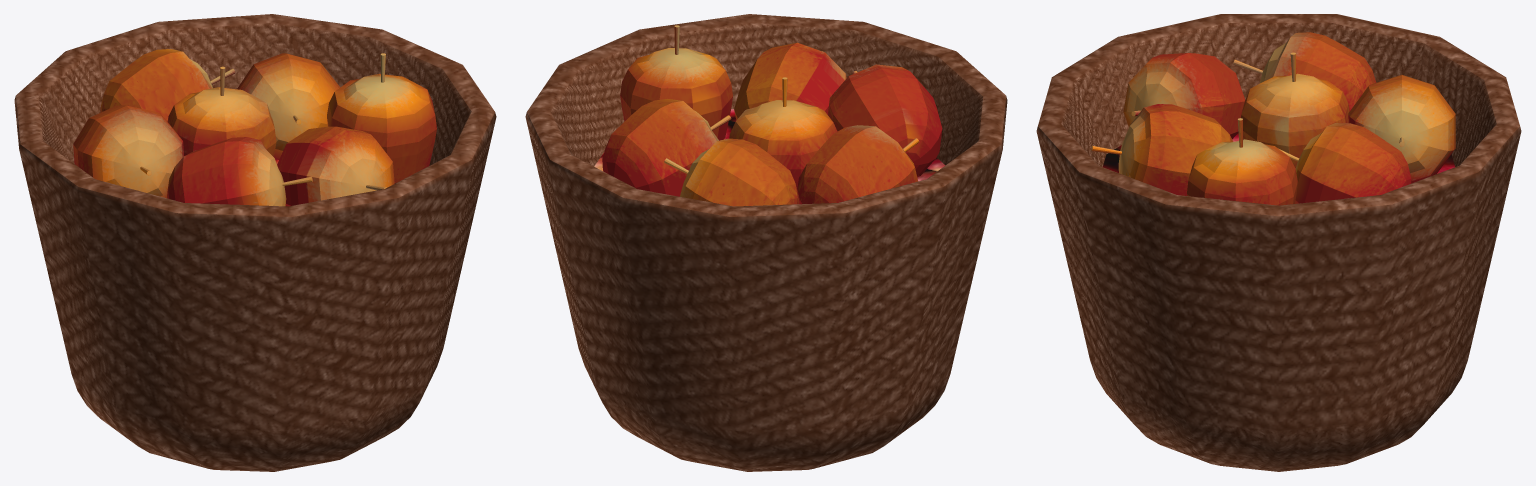
The model's file is Fruit_Basket.fbx.
3 views of the same model, side by side, from view 1: azimuth 30°, elevation 25°; view 2: azimuth 150°, elevation 25°; view 3: azimuth 270°, elevation 25° (orthographic).
Parts seen in each view (by area): view 1: Fruit_Basket; view 2: Fruit_Basket; view 3: Fruit_Basket.
Boxes of the visible parts, bbox=[...] form: Fruit_Basket: bbox=[14, 14, 496, 471]; Fruit_Basket: bbox=[525, 14, 1007, 471]; Fruit_Basket: bbox=[1036, 14, 1521, 471].
Bounding box in the file's own units: 36.9 × 30.45 × 37.17.
